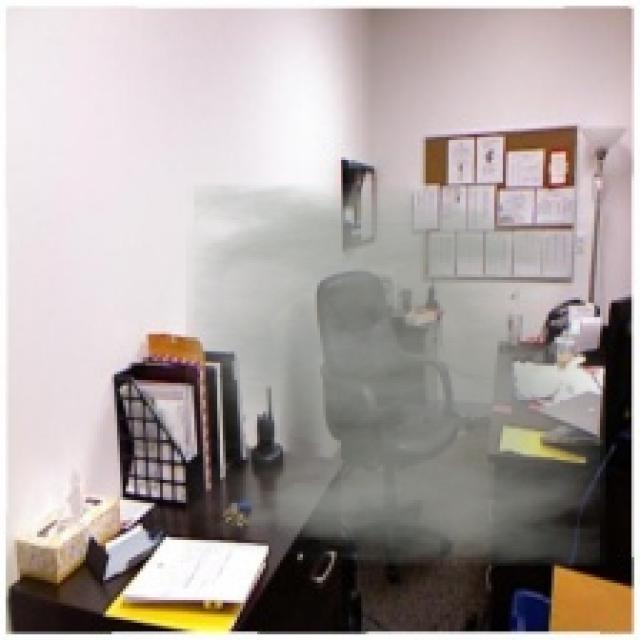Smoke: (185, 183, 606, 566)
